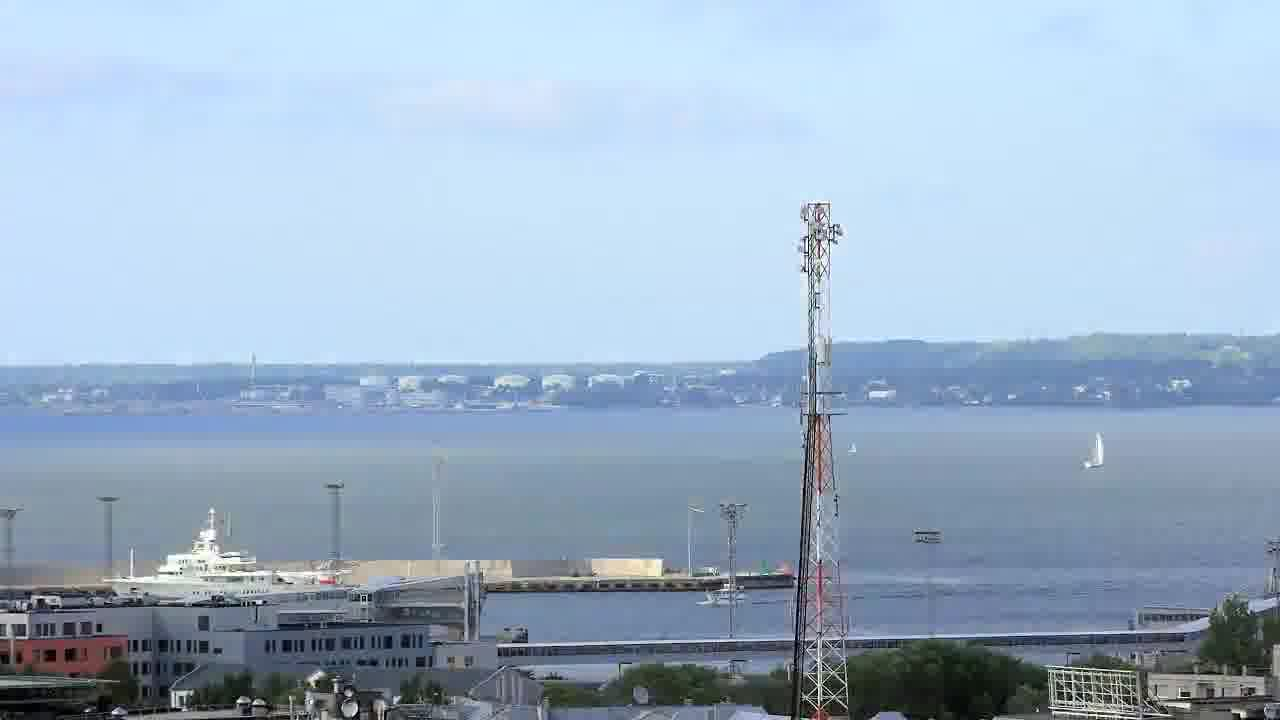type-1: (689, 558, 768, 618)
type-2: (1069, 403, 1123, 486)
type-3: (84, 515, 355, 603)
